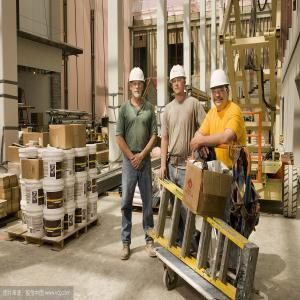white: (209, 71, 232, 110), (128, 68, 149, 100), (169, 65, 189, 97)
